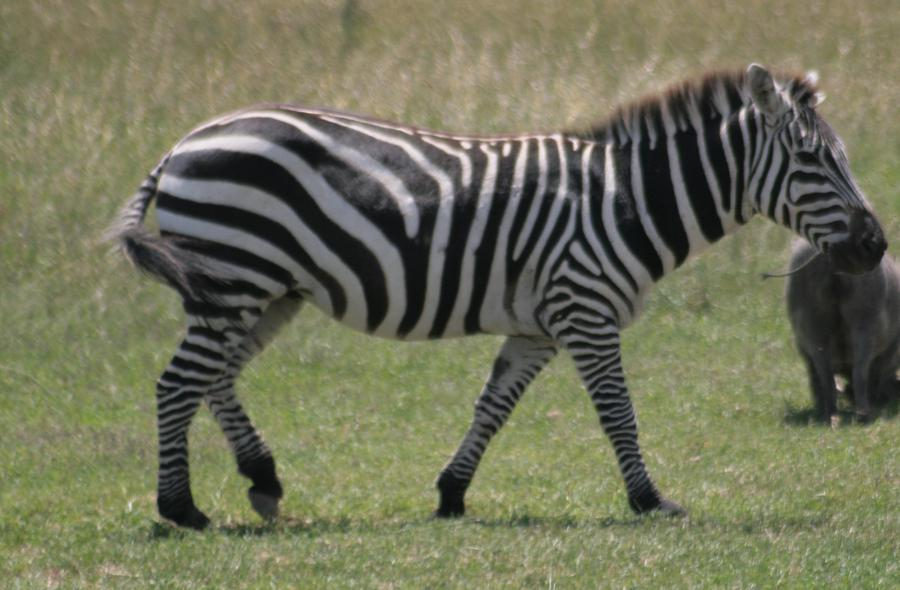zebra_plains: (158, 94, 609, 335)
